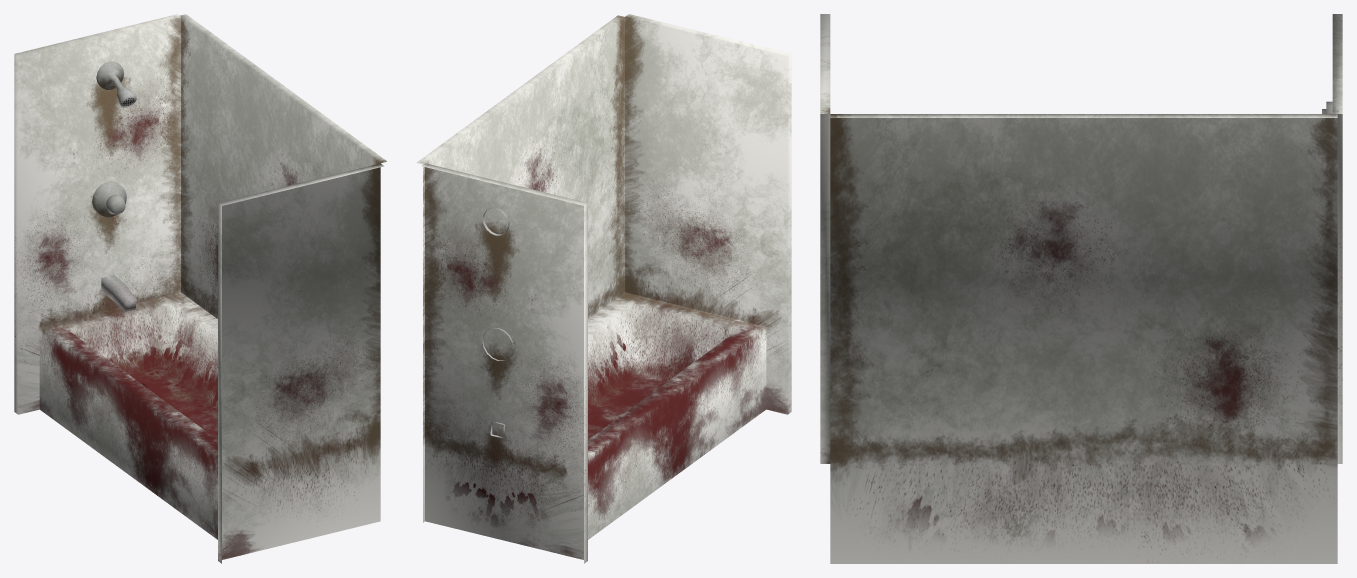
The model's file is shower_horror.glb.
3 views of the same model, side by side, from view 1: azimuth 30°, elevation 25°; view 2: azimuth 150°, elevation 25°; view 3: azimuth 270°, elevation 25° (orthographic). The views are drawn at different scales.
Parts seen in each view (by area): view 1: g (×7); view 2: g (×4); view 3: g (×3).
Part boxes in pixels (<box>): g (×7): <box>14,14,386,563</box>; g (×4): <box>416,14,791,563</box>; g (×3): <box>820,14,1342,563</box>.
Size of the model in its own units: 0.9432 by 1.9 by 2.
1 material, 1 textured.
